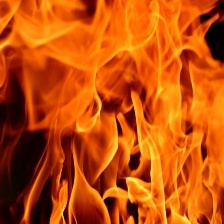fire: (1, 1, 223, 224)
